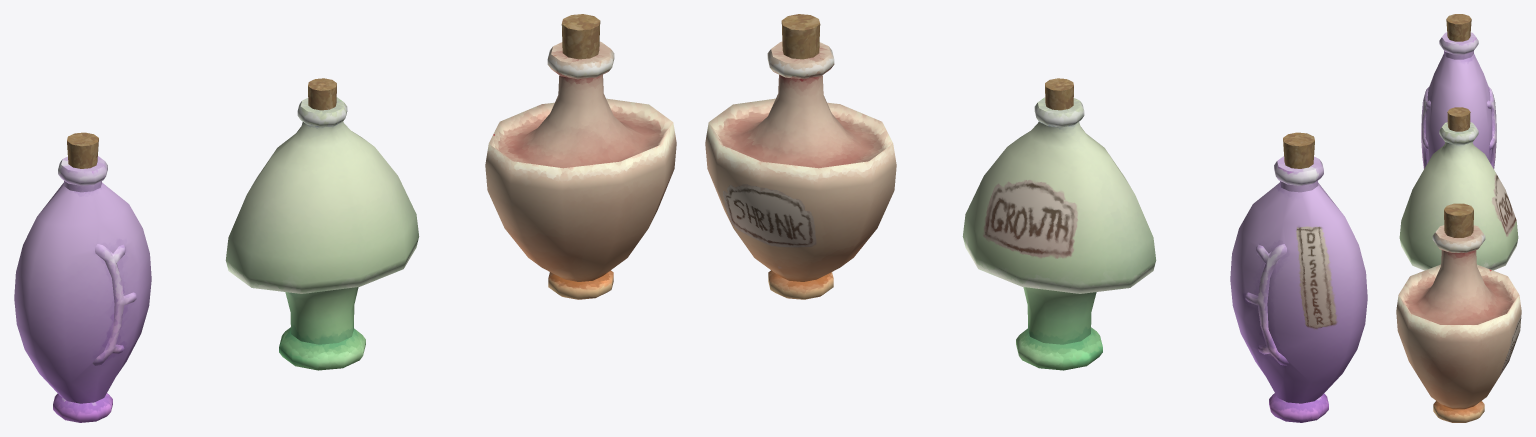
Rendered from Room03_throwablepotions_update.fbx.
The picture shows the model from 3 angles, left to right: view 1: azimuth 30°, elevation 25°; view 2: azimuth 150°, elevation 25°; view 3: azimuth 270°, elevation 25°; orthographic projection. The views are drawn at different scales.
Parts seen in each view (by area): view 1: PotionBottle_Grow, PotionBottle_Shrink, PotionBottle_Dissapear, PotionBottle_Shrink_cork, PotionBottle_Dissapear_cork, PotionBottle_Grow_cork; view 2: PotionBottle_Grow, PotionBottle_Shrink, PotionBottle_Dissapear, PotionBottle_Shrink_cork, PotionBottle_Dissapear_cork, PotionBottle_Grow_cork; view 3: PotionBottle_Shrink, PotionBottle_Grow, PotionBottle_Dissapear, PotionBottle_Shrink_cork, PotionBottle_Dissapear_cork, PotionBottle_Grow_cork.
Part boxes in pixels (x1,y1,x2,y2): PotionBottle_Grow: (225,97,419,370); PotionBottle_Shrink: (485,41,676,299); PotionBottle_Dissapear: (14,156,151,422); PotionBottle_Shrink_cork: (561,14,600,59); PotionBottle_Dissapear_cork: (67,132,98,168); PotionBottle_Grow_cork: (308,78,336,110); PotionBottle_Grow: (962,97,1156,370); PotionBottle_Shrink: (705,41,896,299); PotionBottle_Dissapear: (1230,156,1367,422); PotionBottle_Shrink_cork: (781,14,820,59); PotionBottle_Dissapear_cork: (1283,132,1314,168); PotionBottle_Grow_cork: (1045,78,1073,110); PotionBottle_Shrink: (1396,225,1521,422); PotionBottle_Grow: (1399,122,1518,270); PotionBottle_Dissapear: (1421,32,1496,168); PotionBottle_Shrink_cork: (1444,203,1473,237); PotionBottle_Dissapear_cork: (1446,14,1471,41); PotionBottle_Grow_cork: (1447,107,1470,131).
Bounding box in the file's own units: 373 × 151 × 81.88.
